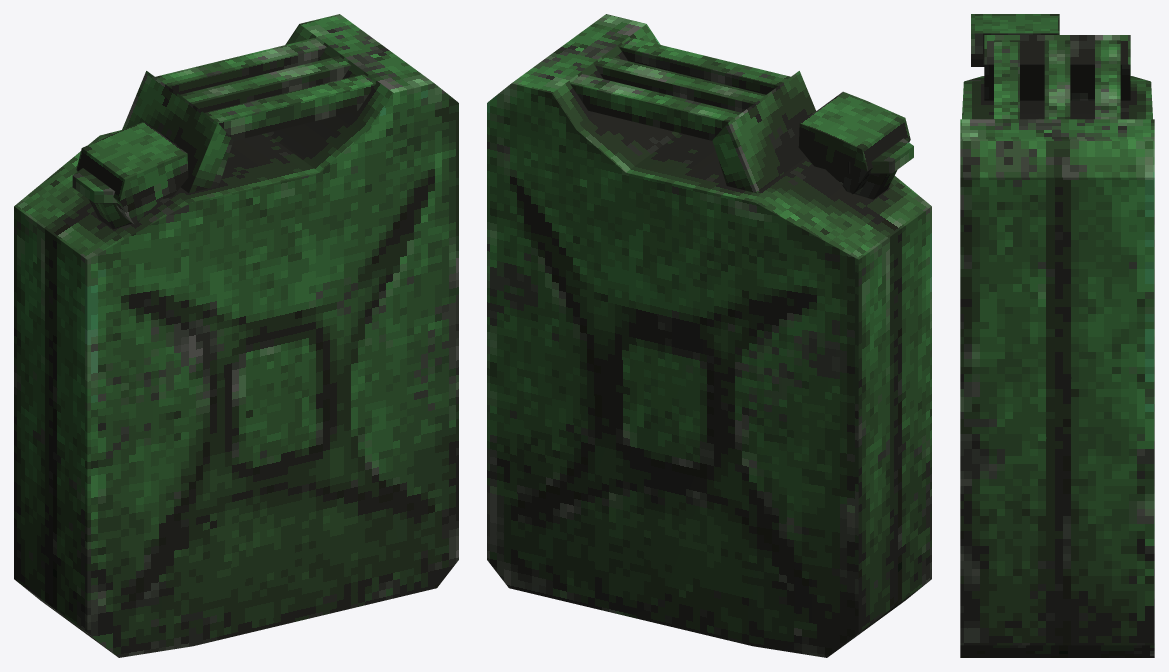
Rendered from jerry_can_green.glb.
3 views of the same model, side by side, from view 1: azimuth 30°, elevation 25°; view 2: azimuth 150°, elevation 25°; view 3: azimuth 270°, elevation 25° (orthographic). The views are drawn at different scales.
Visible parts, largest first — view 1: JerryCan; view 2: JerryCan; view 3: JerryCan.
Part boxes in pixels (<box>): JerryCan: <box>14,14,458,657</box>; JerryCan: <box>487,14,931,657</box>; JerryCan: <box>960,14,1154,657</box>.
Bounding box in the file's own units: 0.3412 × 0.4584 × 0.1552.
Materials: 1 (1 with a texture image).
